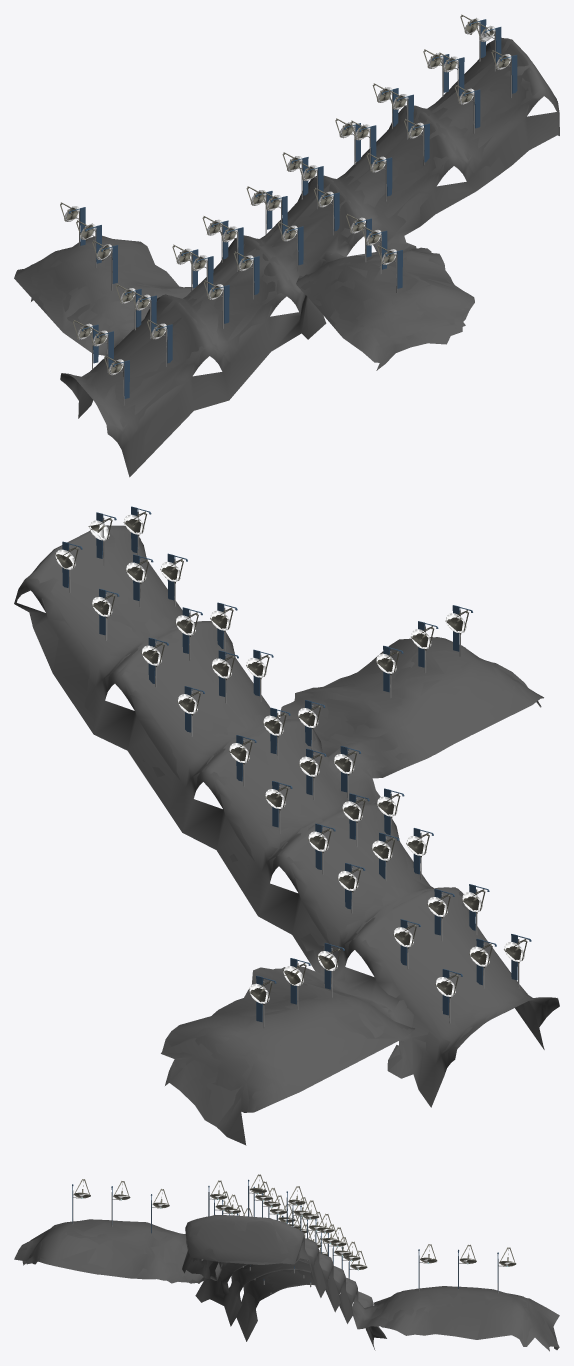
The model's file is Overlay_2nd_Gal_Top.glb.
The picture shows the model from 3 angles, top to bottom: view 1: azimuth 30°, elevation 25°; view 2: azimuth 150°, elevation 25°; view 3: azimuth 270°, elevation 25°; orthographic projection. The views are drawn at different scales.
Parts seen in each view (by area): view 1: Overlay_2ndGal_Top, Overlay_2ndGal_Top.001, LightTubes_2Gal_Top_LEDs, LightTubes_2ndGal_Top_Mirrors, LightTubes_2ndGal_Top_Mirrors.002, LightTubes_2ndGal_Top_Mirrors.001, LightTubes_2Gal_Top_LEDs.001, LightTubes_2Gal_Top_Bases, LightTubes_2Gal_Top_Bases.001, LightTubes_2Gal_Top_Bases.002; view 2: Overlay_2ndGal_Top, Overlay_2ndGal_Top.001, LightTubes_2Gal_Top_LEDs, LightTubes_2ndGal_Top_Mirrors, LightTubes_2ndGal_Top_Mirrors.002, LightTubes_2ndGal_Top_Mirrors.001, LightTubes_2Gal_Top_Bases; view 3: Overlay_2ndGal_Top, Overlay_2ndGal_Top.001, LightTubes_2ndGal_Top_Mirrors, LightTubes_2Gal_Top_LEDs, LightTubes_2Gal_Top_Bases, LightTubes_2ndGal_Top_Mirrors.002, LightTubes_2ndGal_Top_Mirrors.001.
Part boxes in pixels (box(x1,y1,x2,y2)): Overlay_2ndGal_Top: box(14, 38, 559, 470); Overlay_2ndGal_Top.001: box(14, 37, 558, 477); LightTubes_2Gal_Top_LEDs: box(69, 19, 517, 398); LightTubes_2ndGal_Top_Mirrors: box(60, 14, 511, 375); LightTubes_2ndGal_Top_Mirrors.002: box(64, 18, 509, 373); LightTubes_2ndGal_Top_Mirrors.001: box(61, 16, 510, 375); LightTubes_2Gal_Top_LEDs.001: box(69, 20, 517, 395); LightTubes_2Gal_Top_Bases: box(77, 22, 511, 405); LightTubes_2Gal_Top_Bases.001: box(77, 23, 511, 405); LightTubes_2Gal_Top_Bases.002: box(79, 25, 511, 391); Overlay_2ndGal_Top: box(15, 525, 559, 1145); Overlay_2ndGal_Top.001: box(14, 525, 559, 1136); LightTubes_2Gal_Top_LEDs: box(62, 506, 531, 1022); LightTubes_2ndGal_Top_Mirrors: box(55, 511, 527, 1003); LightTubes_2ndGal_Top_Mirrors.002: box(55, 519, 521, 1004); LightTubes_2ndGal_Top_Mirrors.001: box(56, 514, 525, 1003); LightTubes_2Gal_Top_Bases: box(69, 509, 519, 1027); Overlay_2ndGal_Top: box(14, 1215, 559, 1351); Overlay_2ndGal_Top.001: box(15, 1215, 559, 1349); LightTubes_2ndGal_Top_Mirrors: box(73, 1174, 516, 1270); LightTubes_2Gal_Top_LEDs: box(72, 1179, 498, 1291); LightTubes_2Gal_Top_Bases: box(72, 1186, 506, 1293); LightTubes_2ndGal_Top_Mirrors.002: box(73, 1189, 514, 1269); LightTubes_2ndGal_Top_Mirrors.001: box(76, 1176, 514, 1269).
Size of what is drawn, in the model's own units: 391 by 312 by 481.
